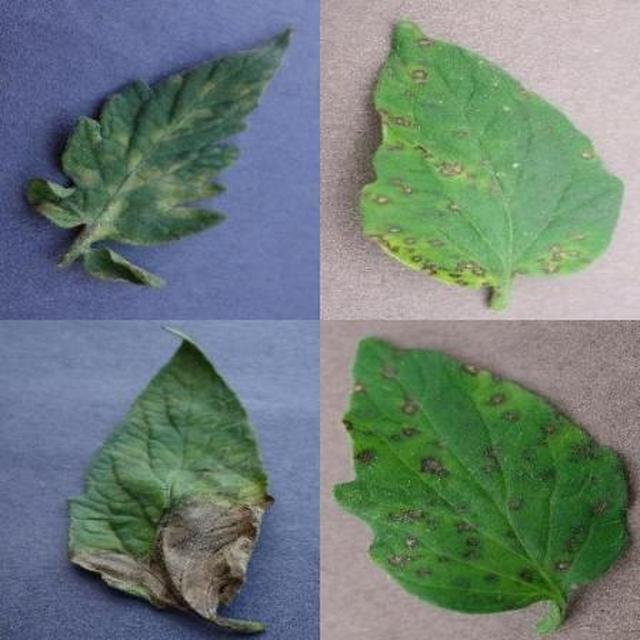Leaf Mold: (228, 196, 640, 640)
